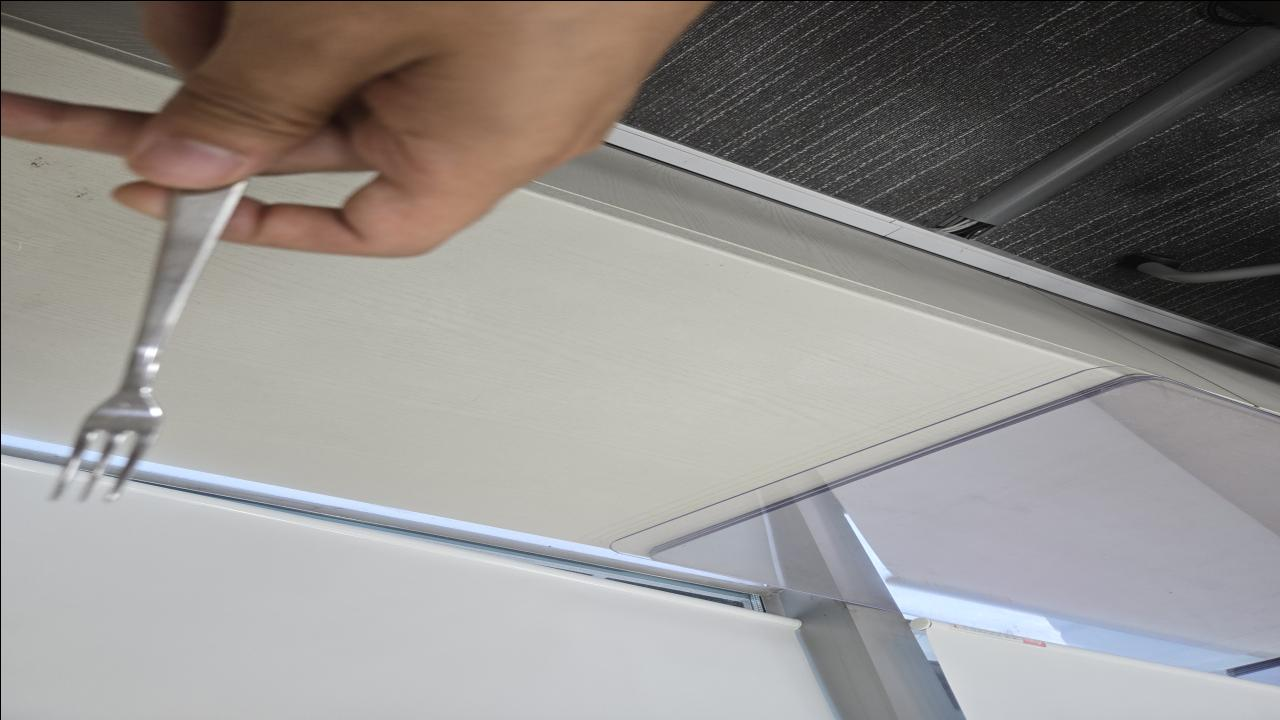fork: (42, 190, 238, 502)
